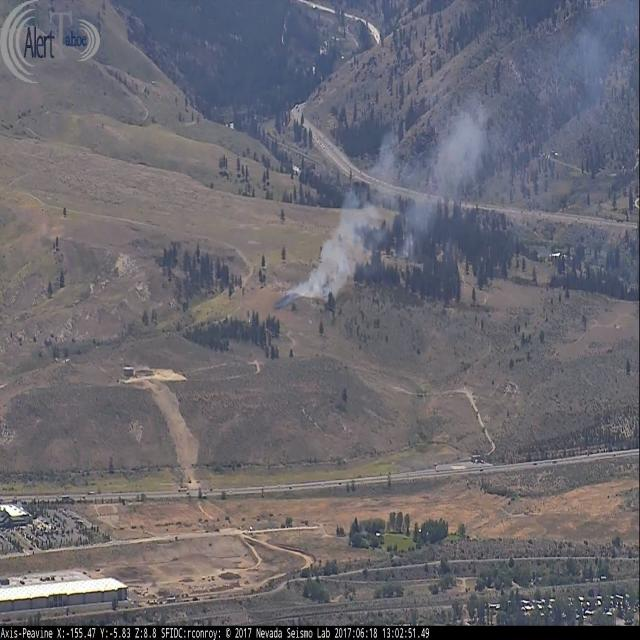smoke: (279, 100, 484, 309)
